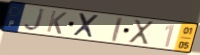1: (164, 24, 177, 48)
I: (111, 16, 124, 43)
J: (23, 8, 47, 33)
K: (45, 9, 69, 36)
X: (71, 12, 101, 40), (128, 19, 156, 46)
